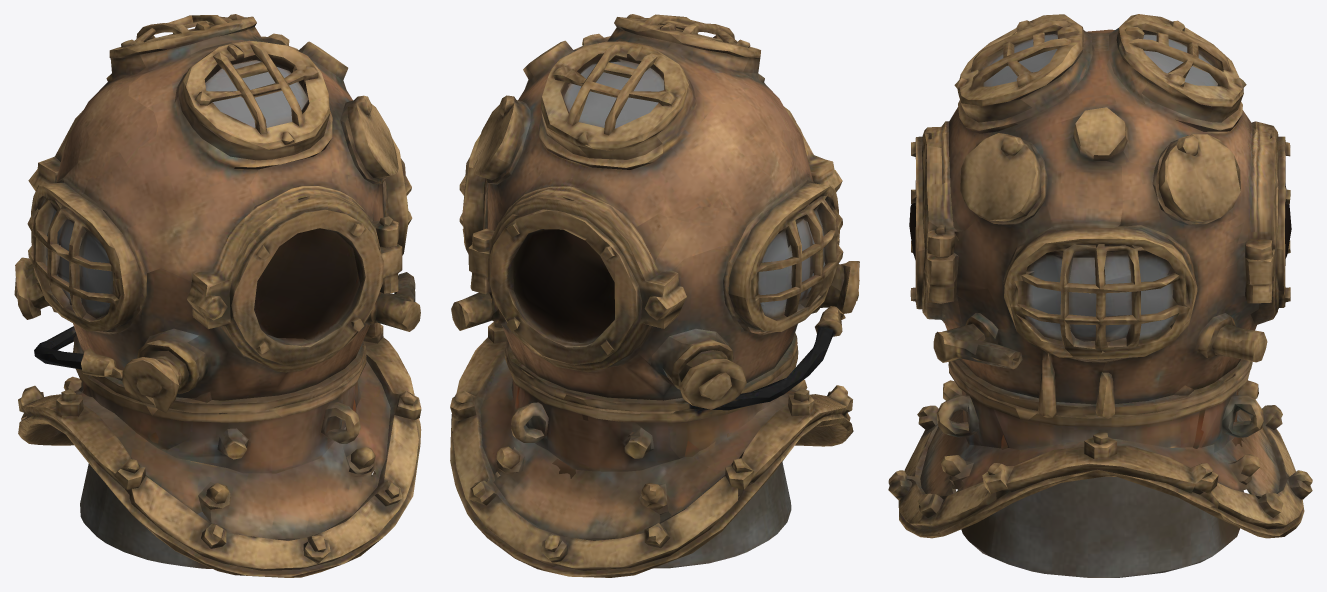
Rendered from lm_helmet.glb.
3 renders of one model, left to right at view 1: azimuth 30°, elevation 25°; view 2: azimuth 150°, elevation 25°; view 3: azimuth 270°, elevation 25°, orthographic. The views are drawn at different scales.
Parts seen in each view (by area): view 1: world; view 2: world; view 3: world.
Boxes of the visible parts, bbox=[...] form: world: bbox=[14, 14, 421, 577]; world: bbox=[450, 14, 859, 577]; world: bbox=[888, 14, 1312, 577].
Bounding box in the file's own units: 16.59 × 22 × 17.23.
Materials: 1 (1 with a texture image).
